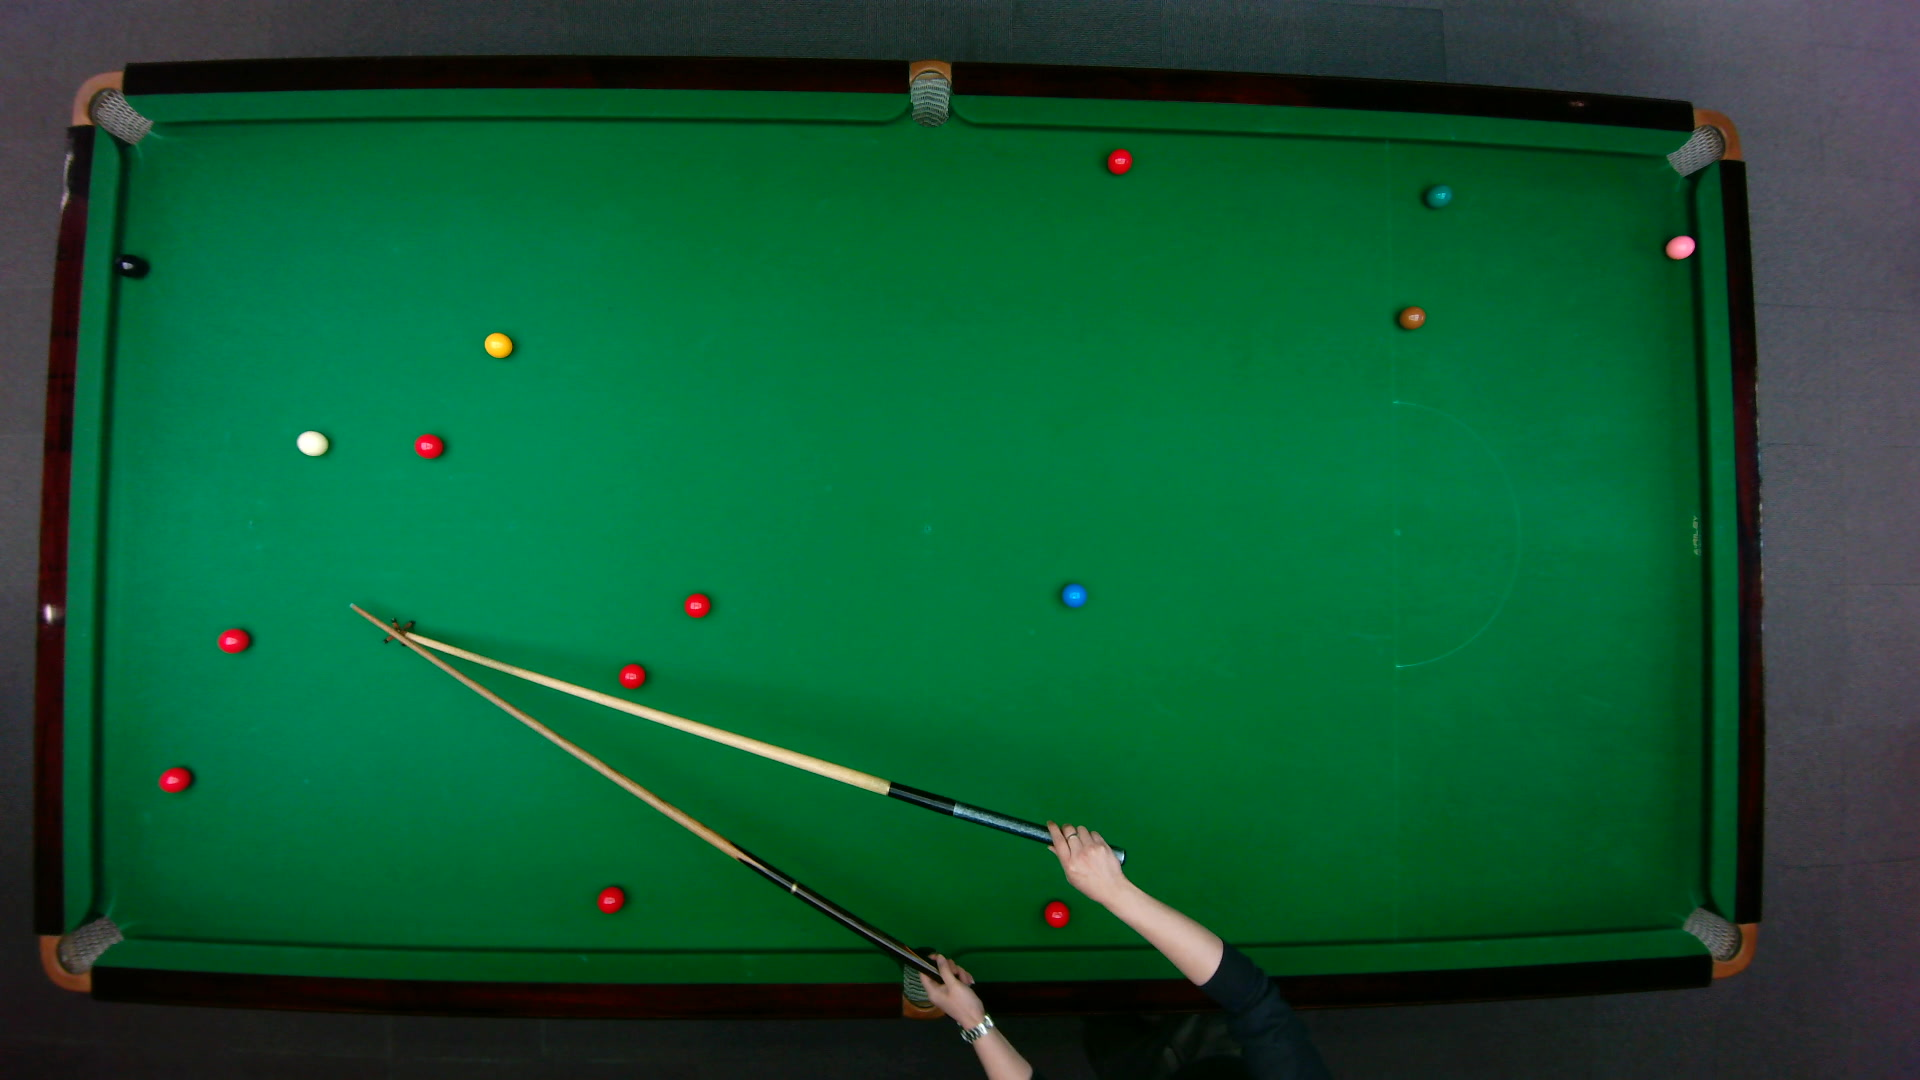bag: (37, 913, 125, 992), (69, 69, 153, 144), (1677, 905, 1756, 978), (1663, 107, 1741, 177), (901, 947, 949, 1022), (909, 57, 949, 127)
black: (112, 252, 145, 278)
blue: (1059, 582, 1087, 608)
brown: (1396, 305, 1425, 328)
cue: (348, 597, 968, 997)
green: (1422, 182, 1453, 208)
pink: (1663, 232, 1697, 260)
red: (156, 765, 193, 793), (216, 626, 251, 653), (595, 884, 624, 914), (411, 433, 444, 459), (1104, 146, 1133, 175), (680, 591, 711, 618), (1042, 899, 1069, 928), (617, 662, 646, 688)
white: (295, 429, 328, 456)
yellow: (483, 330, 513, 357)
zone: (1391, 400, 1520, 669)
